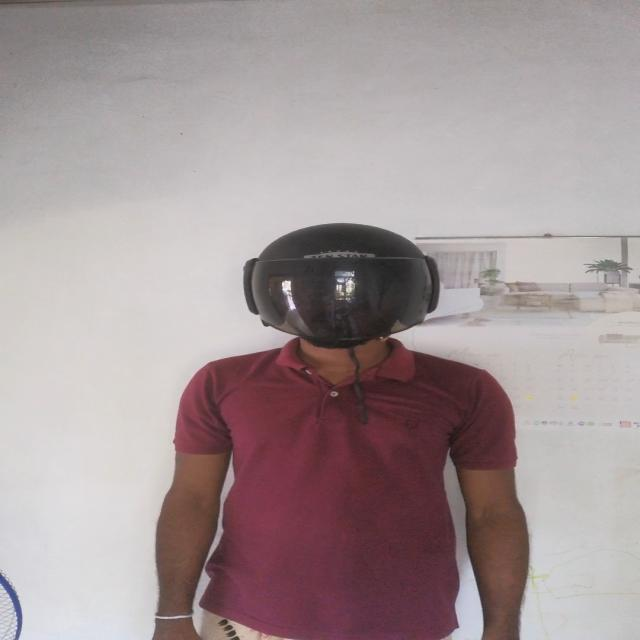Helmet_Wearer: (215, 217, 464, 374)
